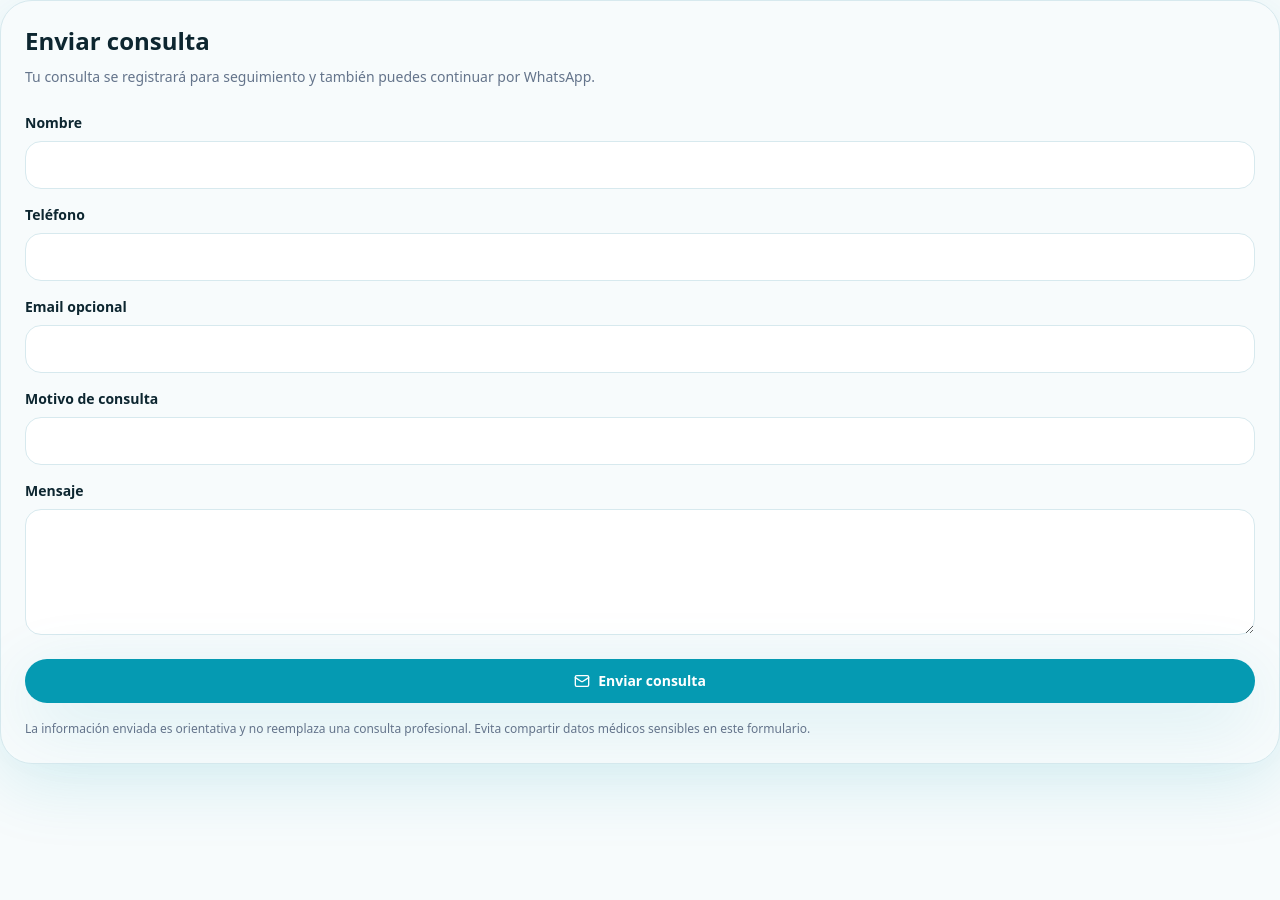
Test: ContactLeadForm › shows the server error message when the API rejects the submission
The width and height of the screenshot is (1280, 900).
Step 1. Type "Paciente Test" into the field labelled "Nombre" → (640, 165), box 25,141 -> 1255,189
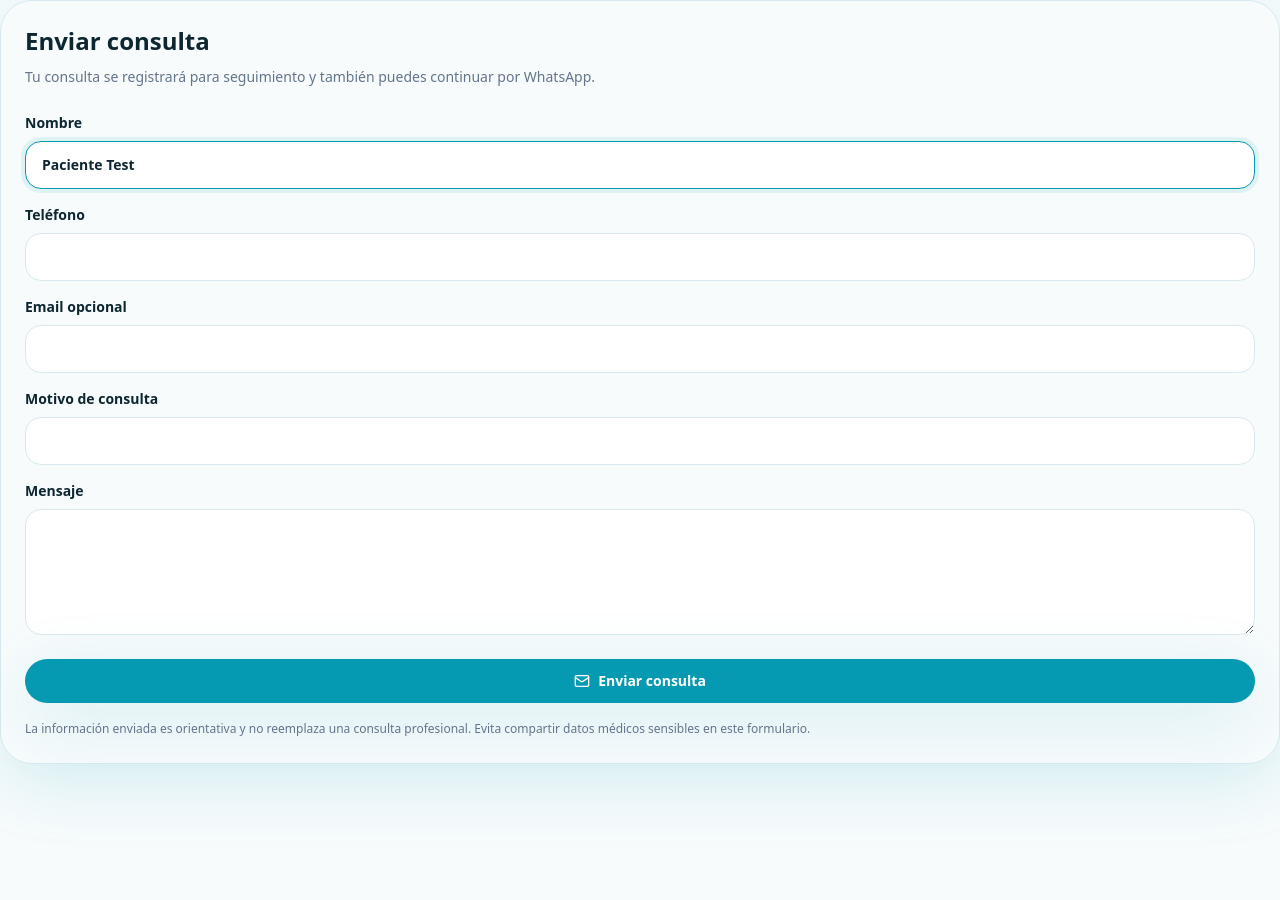
Step 2. Type "+591 70000000" into the field labelled "Teléfono" → (640, 257), box 25,233 -> 1255,281
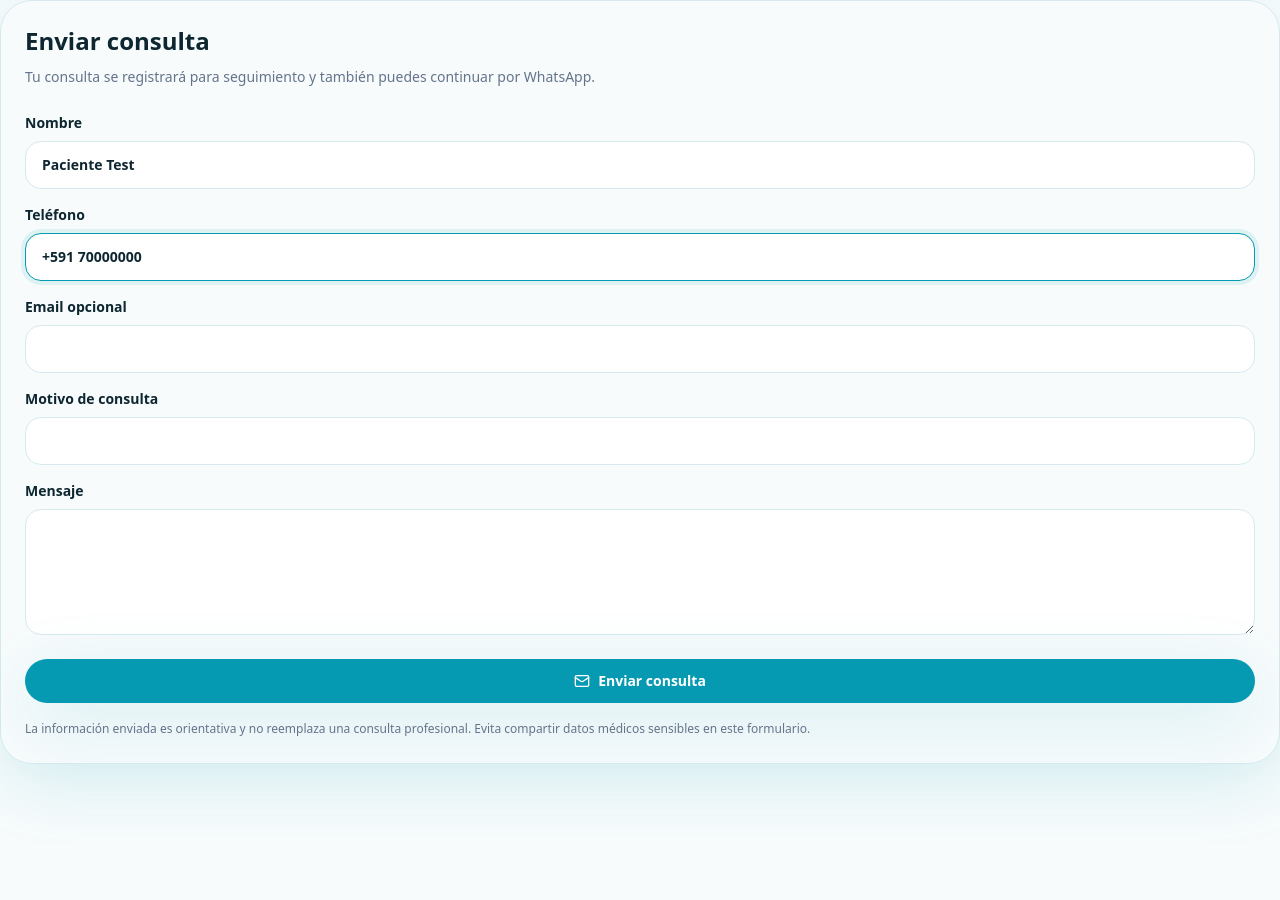
Step 3. Type "Consulta inicial" into the field labelled "Motivo de consulta" → (640, 441), box 25,417 -> 1255,465
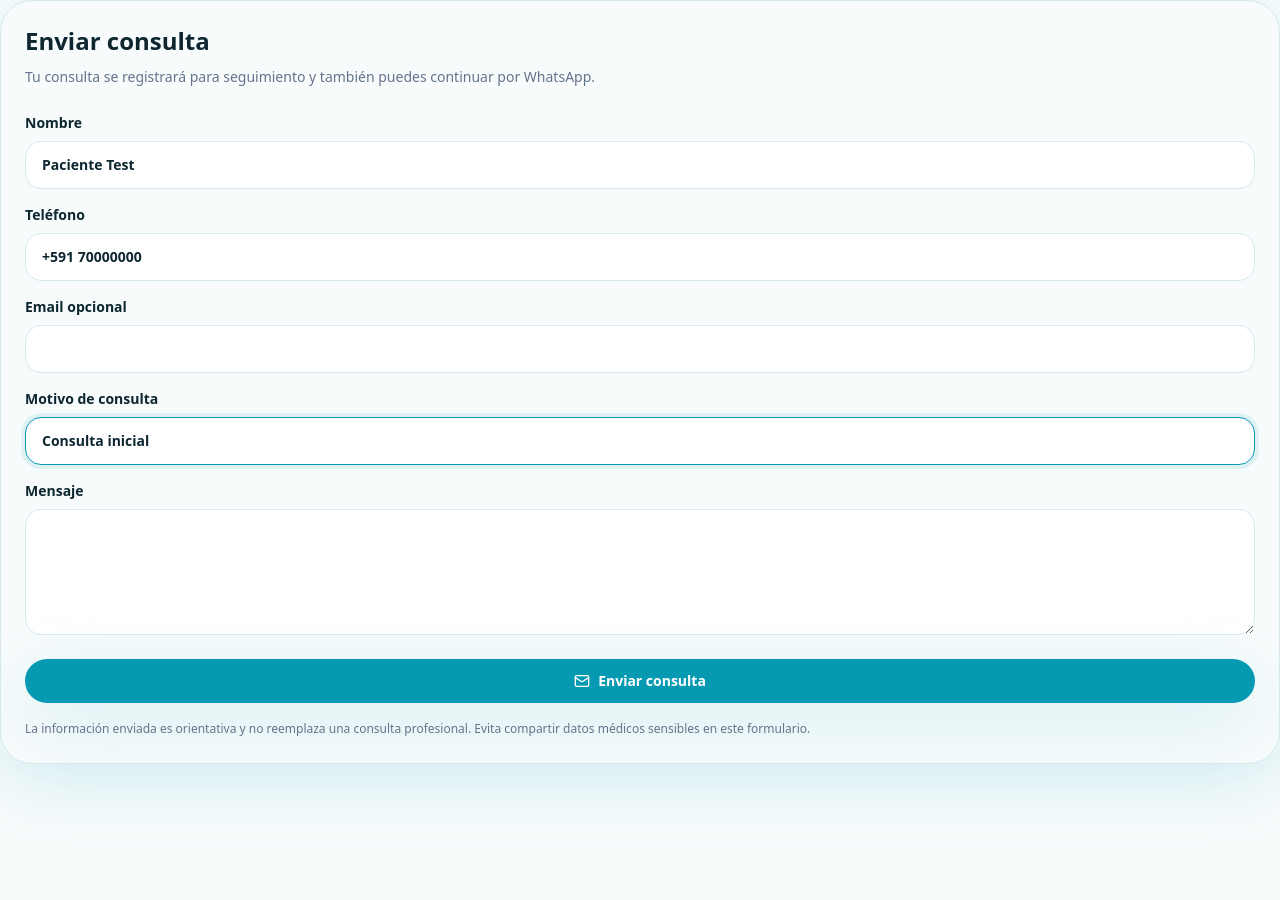
Step 4. Type "Quiero recibir orientación sobre una valoración." into the text box labelled "Mensaje" → (640, 572), box 25,509 -> 1255,635
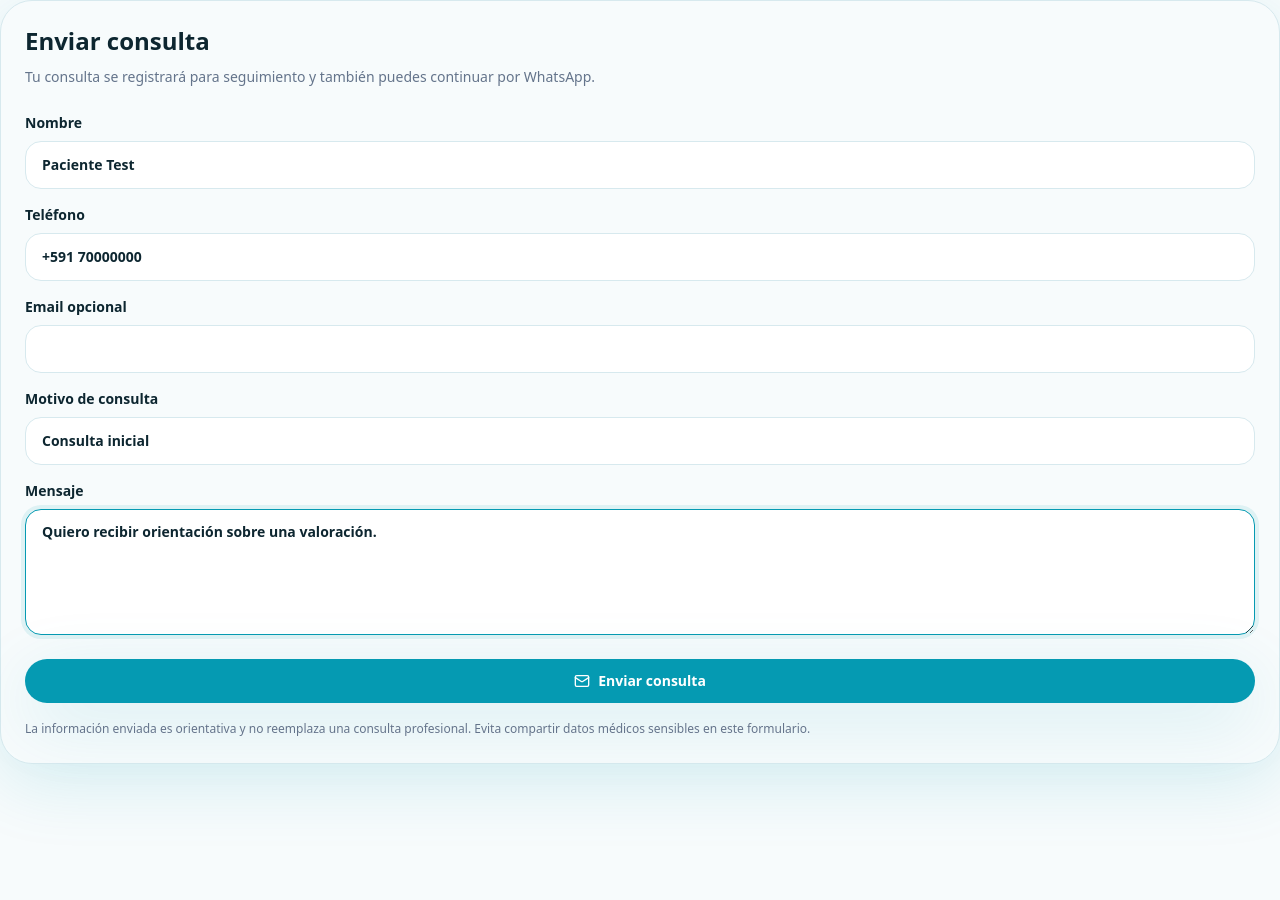
Step 5. Click the button "Enviar consulta" → (640, 681), box 25,659 -> 1255,703
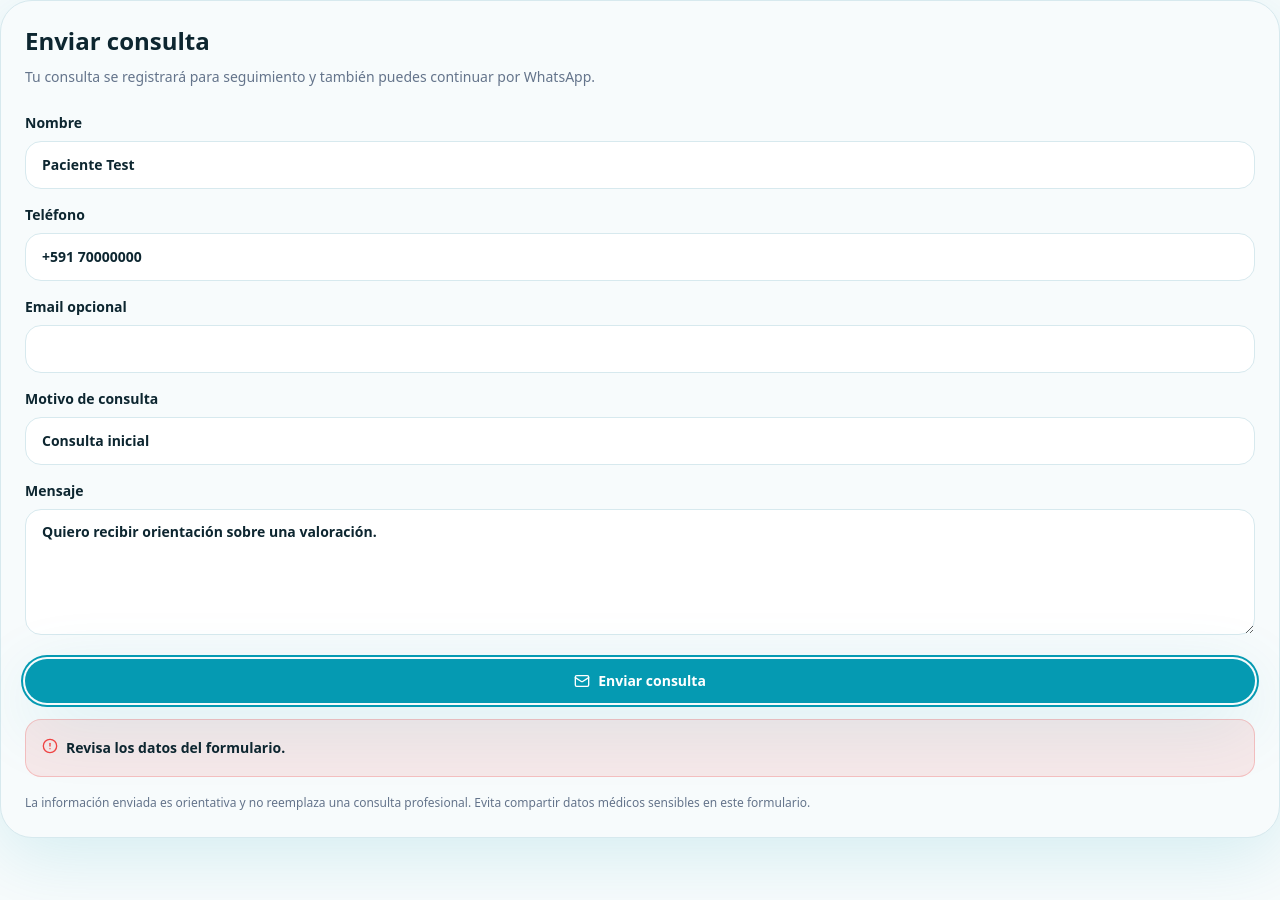
Now the message reads "Revisa los datos del formulario.", box 66,738 -> 285,757
